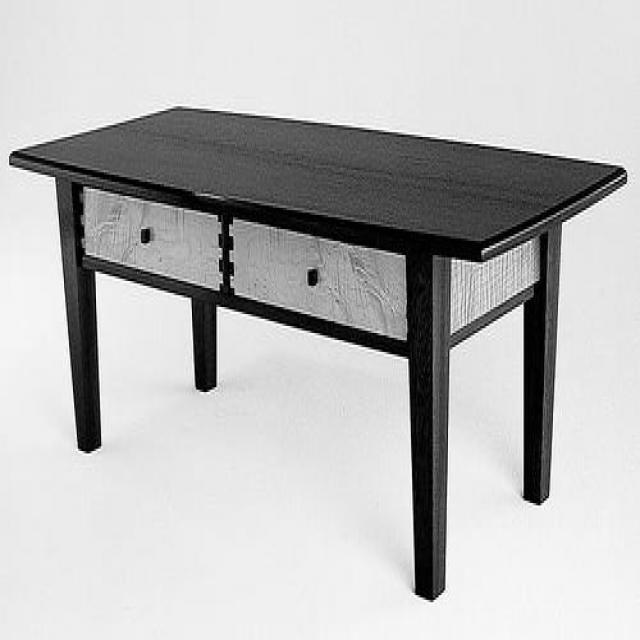table: (9, 101, 625, 604)
